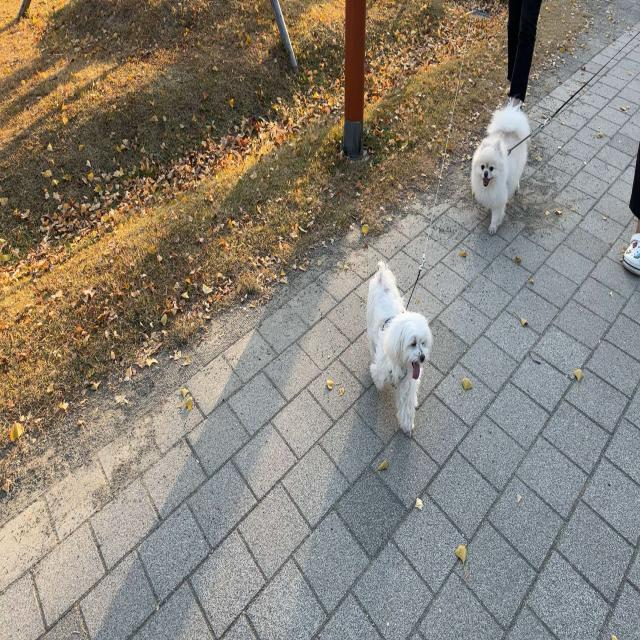Dog: (363, 253, 433, 437), (469, 101, 534, 235)
